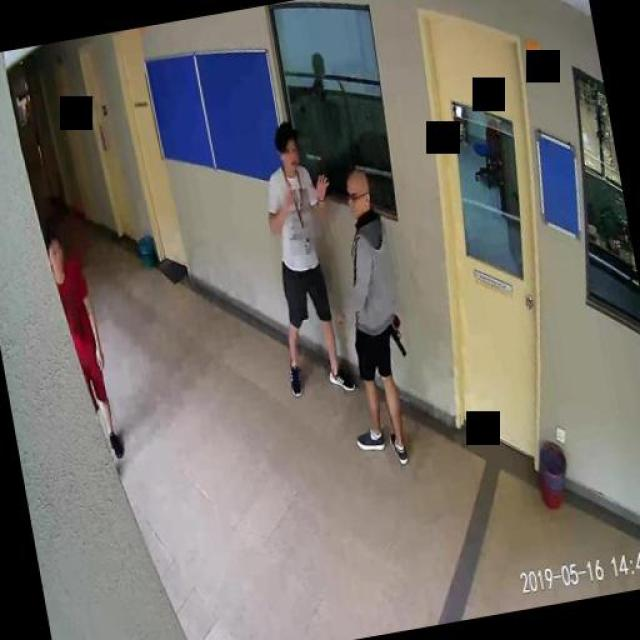gun: (384, 314, 405, 358)
